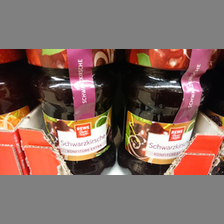jam: (117, 50, 214, 175), (28, 50, 118, 175)
